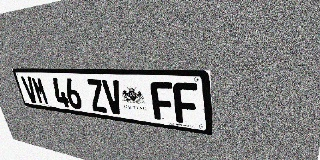4: (50, 77, 70, 108)
6: (62, 78, 83, 110)
F: (172, 82, 199, 125), (150, 81, 175, 122)
M: (30, 77, 50, 105)
V: (101, 79, 125, 115), (20, 76, 39, 104)
Z: (86, 79, 108, 113)
